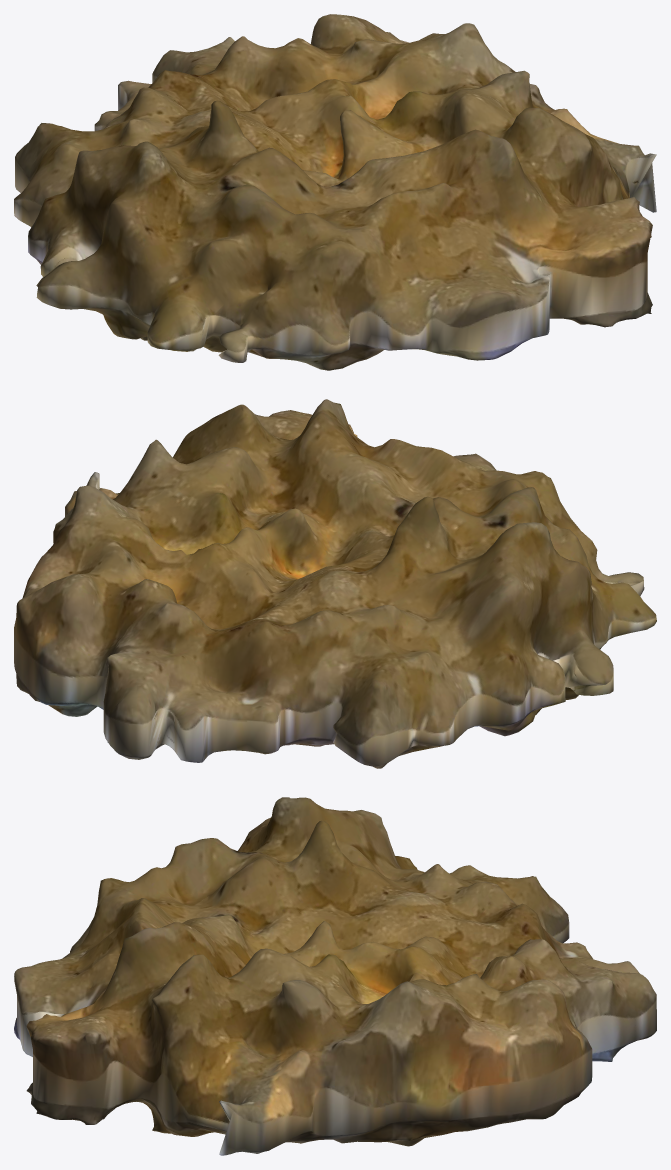
File: onion.glb
3 views of the same model, one above another, from view 1: azimuth 30°, elevation 25°; view 2: azimuth 150°, elevation 25°; view 3: azimuth 270°, elevation 25° (orthographic). The views are drawn at different scales.
Parts seen in each view (by area): view 1: onion; view 2: onion; view 3: onion.
Boxes of the visible parts, x1,y1,x2,y2 form: onion: (14, 14, 656, 370); onion: (14, 399, 656, 768); onion: (14, 797, 656, 1155).
Bounding box in the file's own units: 6.61 × 2.3 × 6.78.
Materials: 1 (1 with a texture image).
